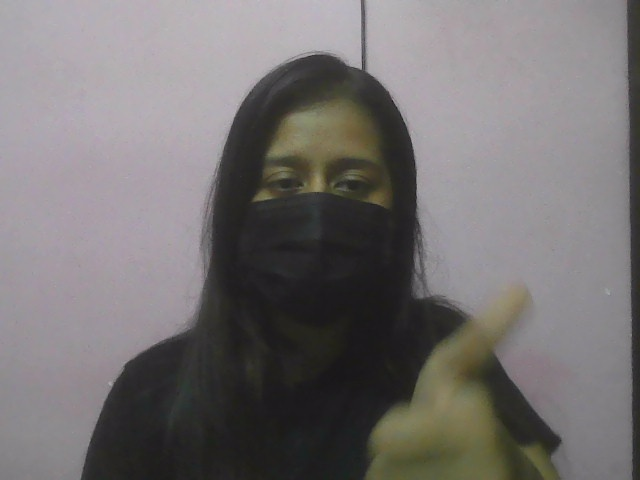Good: (359, 270, 542, 479)
